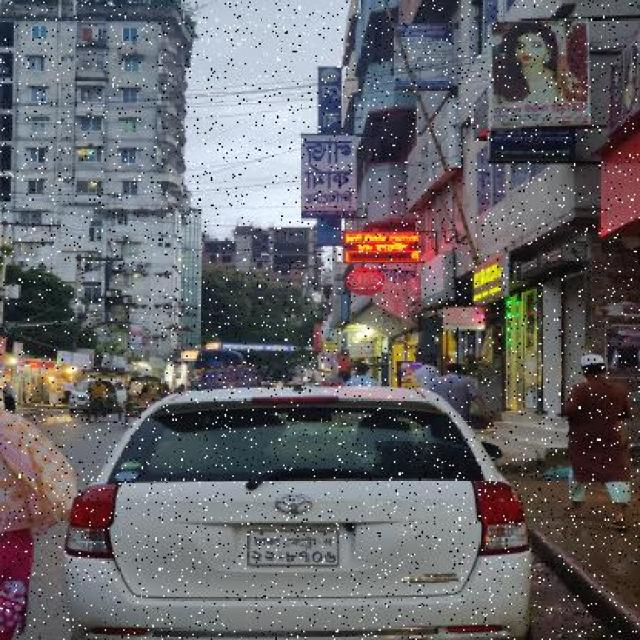numberplate: (246, 523, 342, 568)
